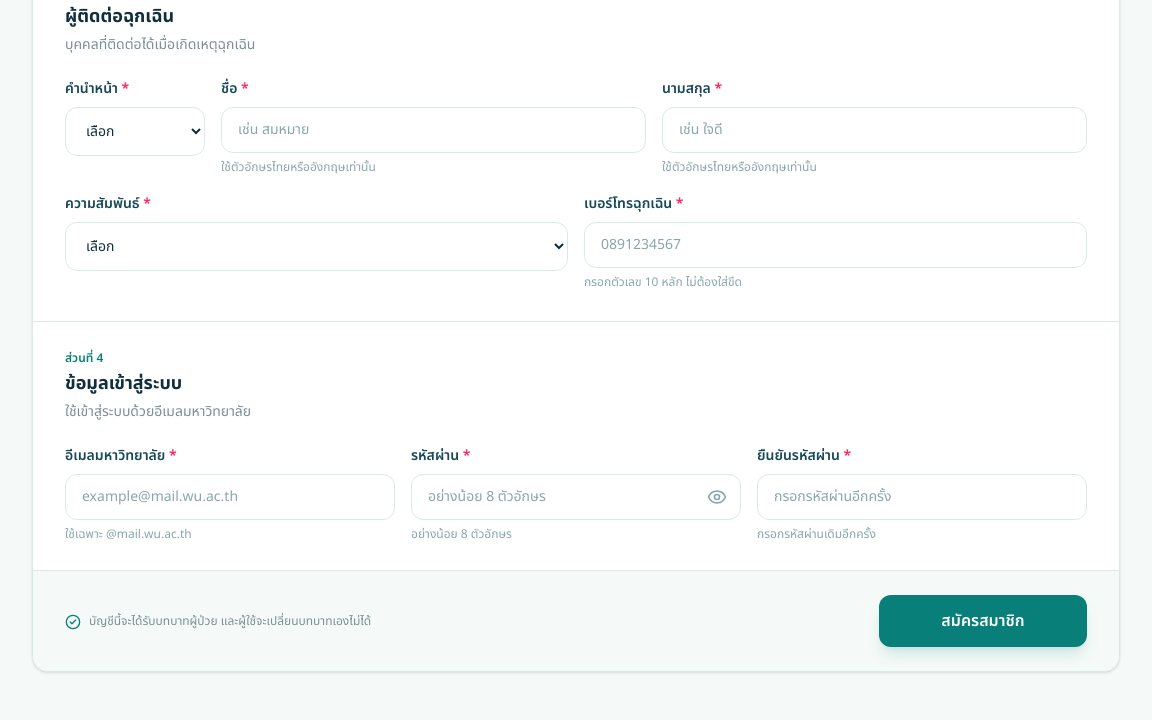
Scenario: registration validation › shows password confirmation feedback in real time
(page scrolled)
Type "Password123" into the password field labelled "รหัสผ่าน *" at (576, 497), box [411, 474, 741, 520]
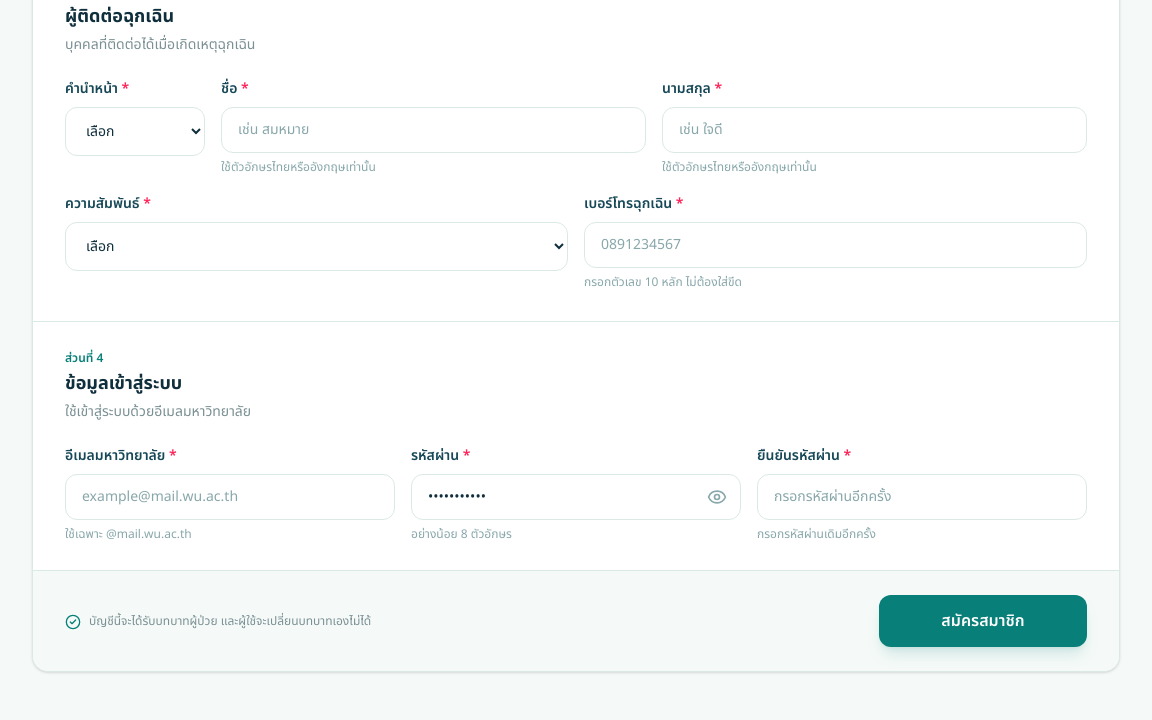
Type "different123" into the password field labelled "ยืนยันรหัสผ่าน *" at (922, 497), box [757, 474, 1087, 520]
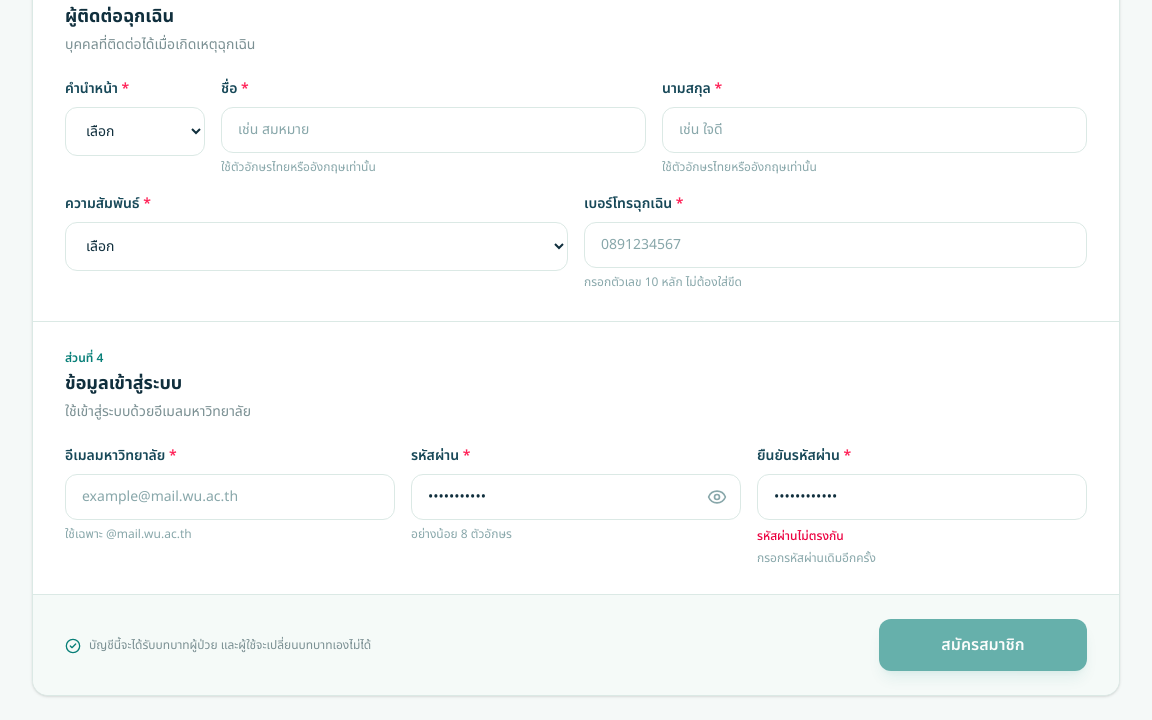
Check: the text "รหัสผ่านไม่ตรงกัน" is shown, box [757, 527, 844, 545]
Type "Password123" into the password field labelled "ยืนยันรหัสผ่าน *" at (922, 497), box [757, 474, 1087, 520]
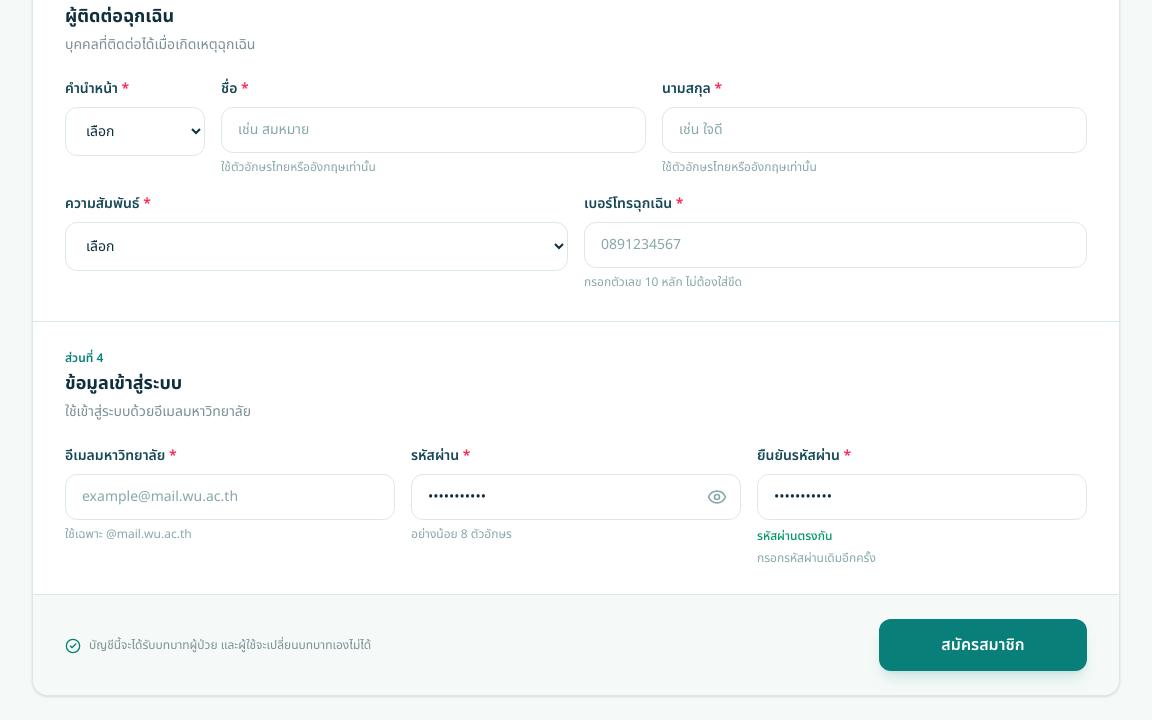
Check: the text "รหัสผ่านตรงกัน" is shown, box [757, 527, 832, 545]
